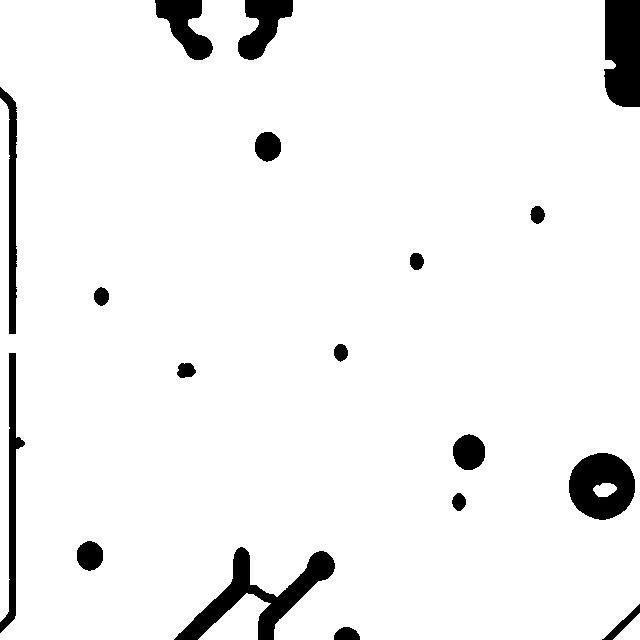copper: (167, 353, 205, 387)
mousebite: (589, 50, 625, 78)
open: (0, 324, 33, 362)
pin-hole: (583, 473, 626, 506)
short: (235, 575, 287, 613)
spur: (4, 427, 34, 458)
